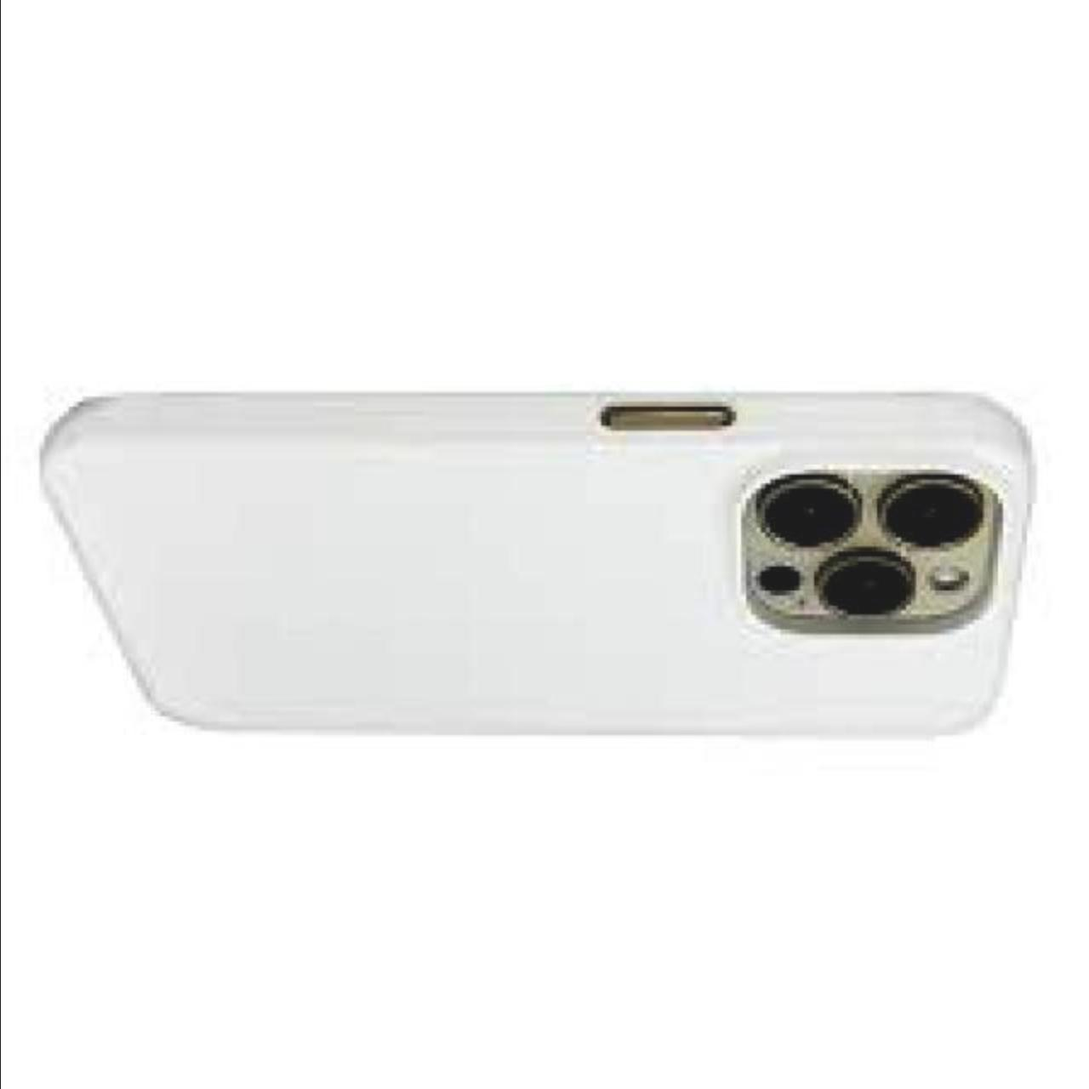phone: (32, 376, 1046, 747)
